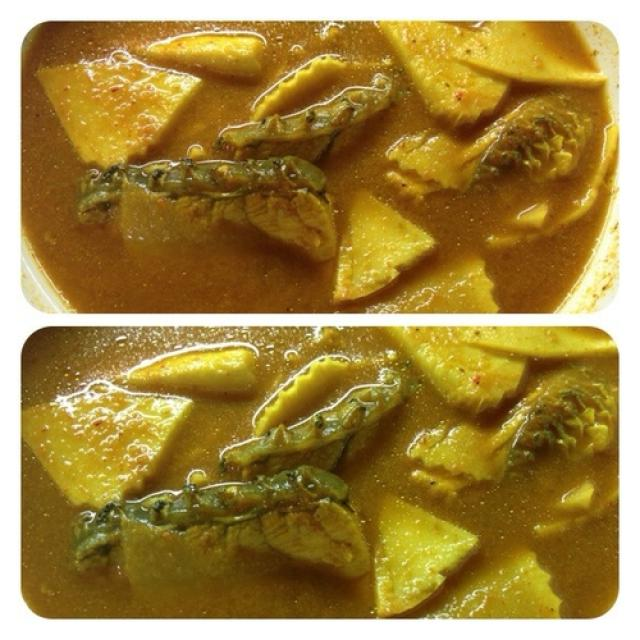汤锅炖物: (26, 28, 609, 631)
